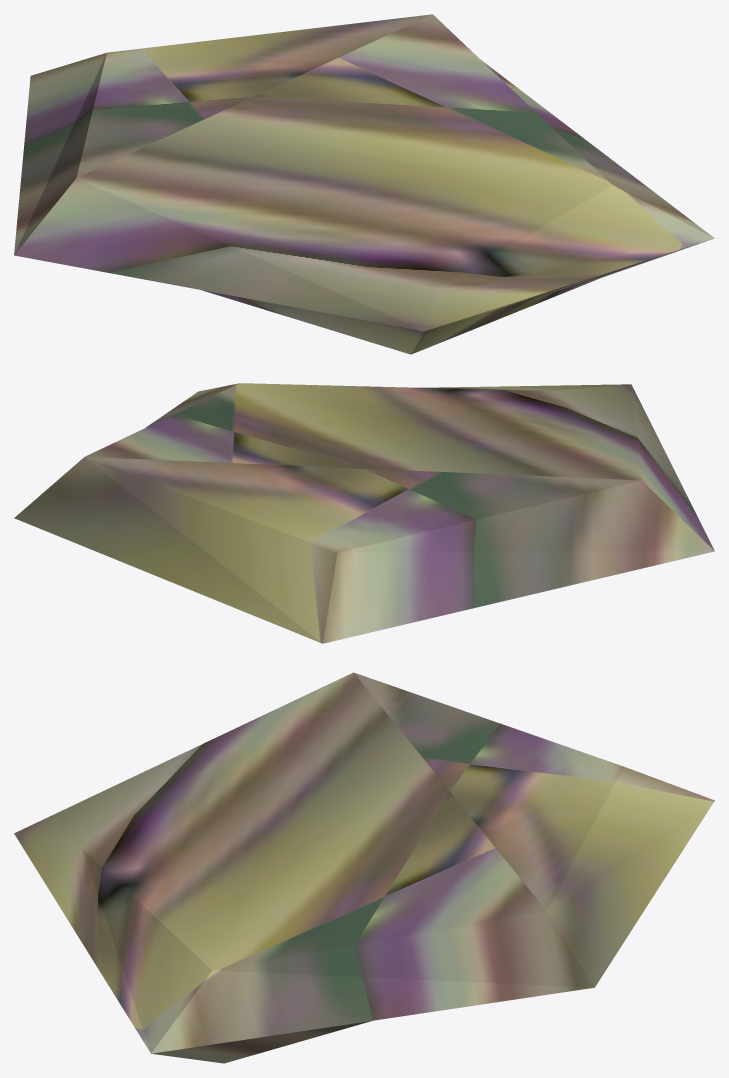
Rendered from PlateTree_1_Plate_4.gltf.
3 views of the same model, one above another, from view 1: azimuth 30°, elevation 25°; view 2: azimuth 150°, elevation 25°; view 3: azimuth 270°, elevation 25° (orthographic).
Visible parts, largest first — view 1: PlateTree_1_Plate_4; view 2: PlateTree_1_Plate_4; view 3: PlateTree_1_Plate_4.
Part boxes in pixels (left/top/right/bottom): PlateTree_1_Plate_4: left=14, top=14, right=714, bottom=354; PlateTree_1_Plate_4: left=14, top=383, right=714, bottom=643; PlateTree_1_Plate_4: left=14, top=672, right=714, bottom=1063.
Bounding box in the file's own units: 1.68 × 0.4381 × 1.68.
Materials: 1 (1 with a texture image).
